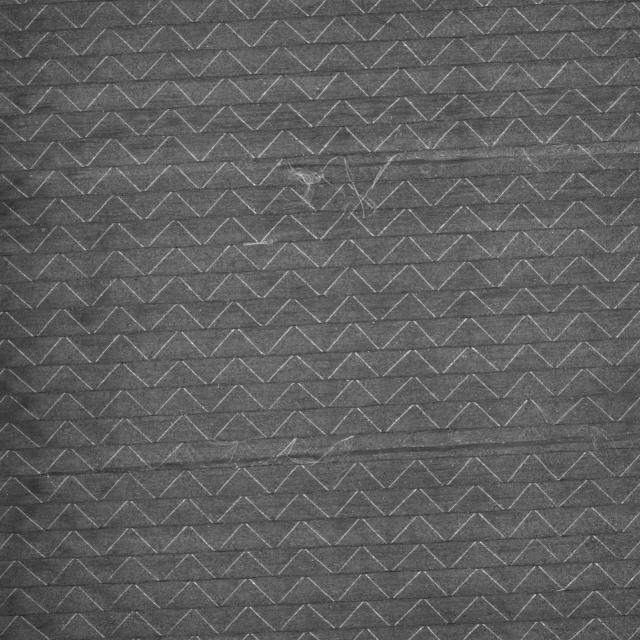carbon-fibre-defect: (43, 421, 607, 480), (279, 143, 540, 191)
